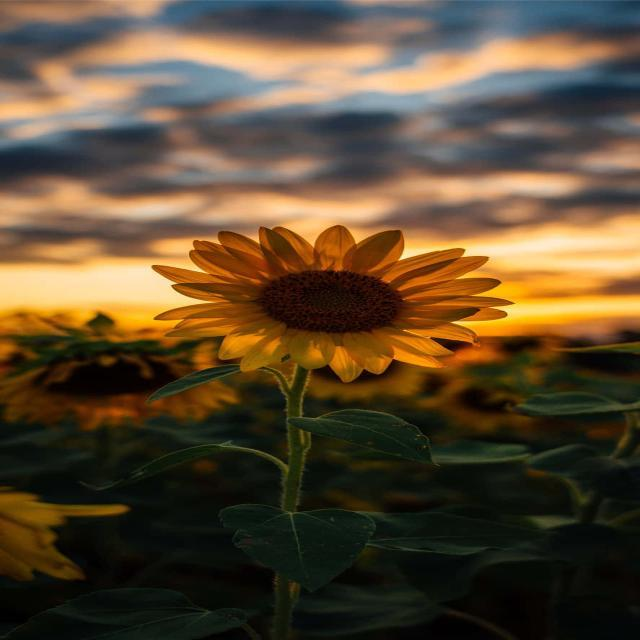sunflower: (150, 224, 515, 384), (0, 351, 242, 432), (0, 487, 129, 580), (298, 352, 429, 400), (434, 378, 542, 428), (423, 334, 502, 370), (501, 336, 564, 359)
